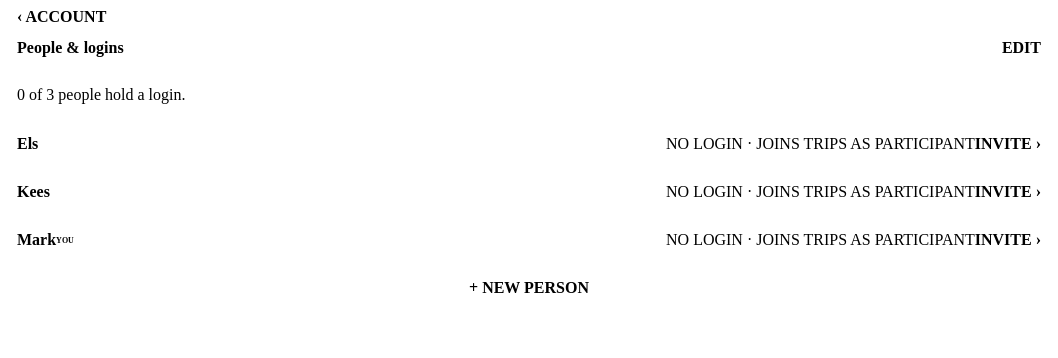
it: the People screen › records a new Person
Click the button "+ NEW PERSON" at (529, 288), box [17,264,1041,312]
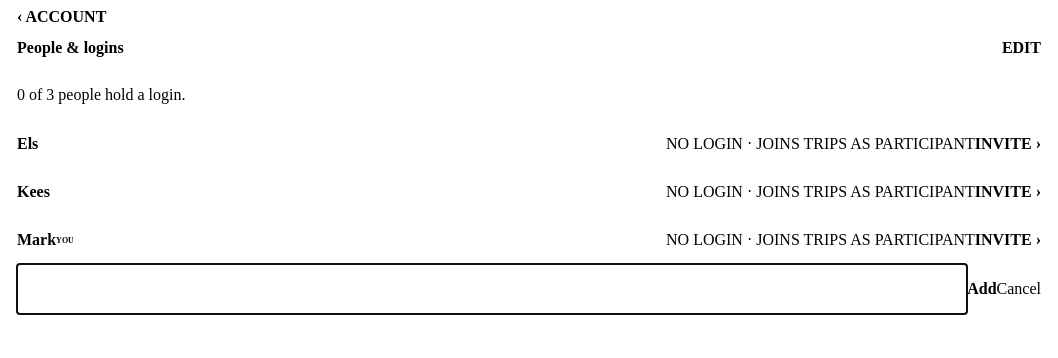
Type "Sam" into the field named "New person name" at (492, 289), box [17,264,967,314]
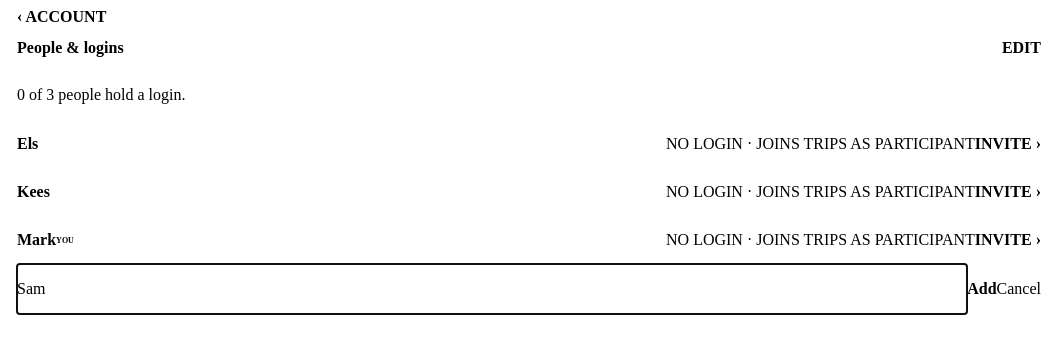
Click the button "Add" at (982, 289), box [967,269,997,309]
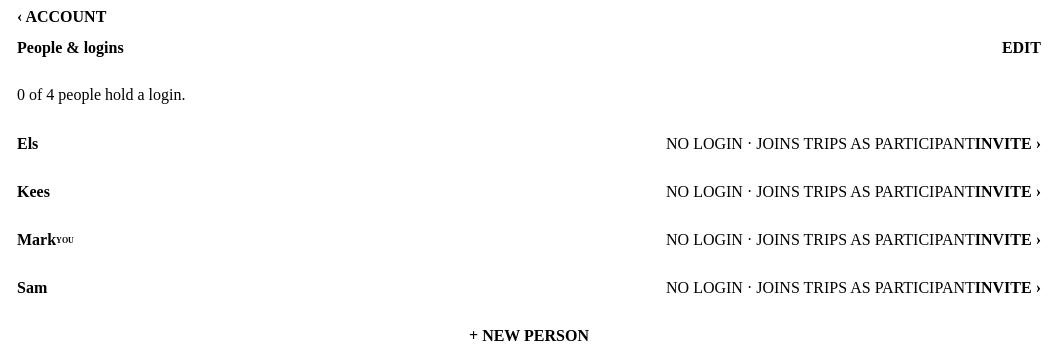
Expected: the text "Sam" is shown, [17,277,47,299]
